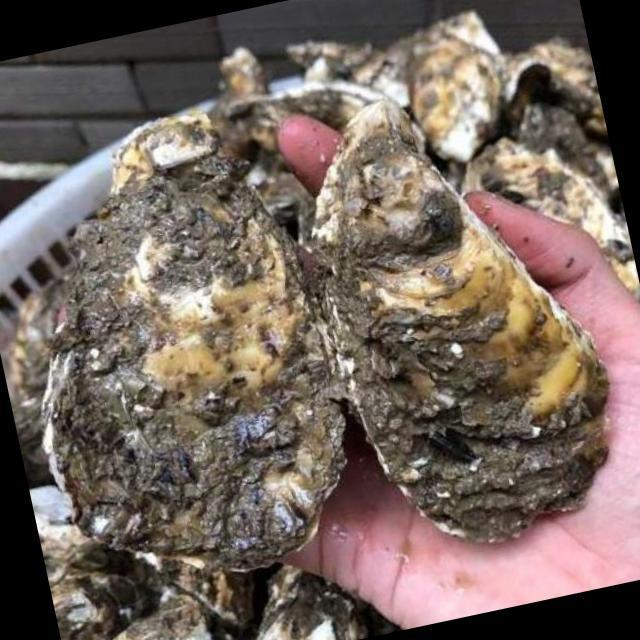Oyster- Indeterminate: (0, 66, 383, 603), (274, 36, 640, 578), (452, 134, 639, 298), (384, 2, 526, 175), (143, 504, 315, 640), (223, 524, 415, 640), (34, 491, 183, 640), (0, 252, 111, 403), (497, 30, 605, 141), (507, 91, 608, 200), (282, 14, 398, 106), (56, 584, 241, 640), (198, 37, 280, 114), (287, 76, 379, 134), (286, 45, 340, 95)
